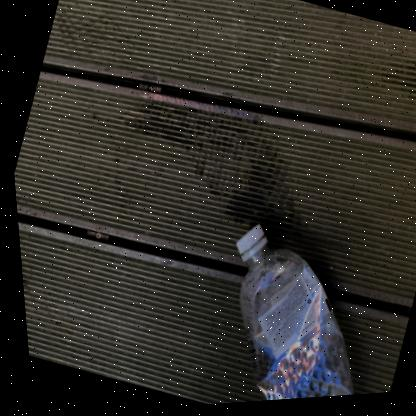Plastic: (233, 228, 347, 404)
